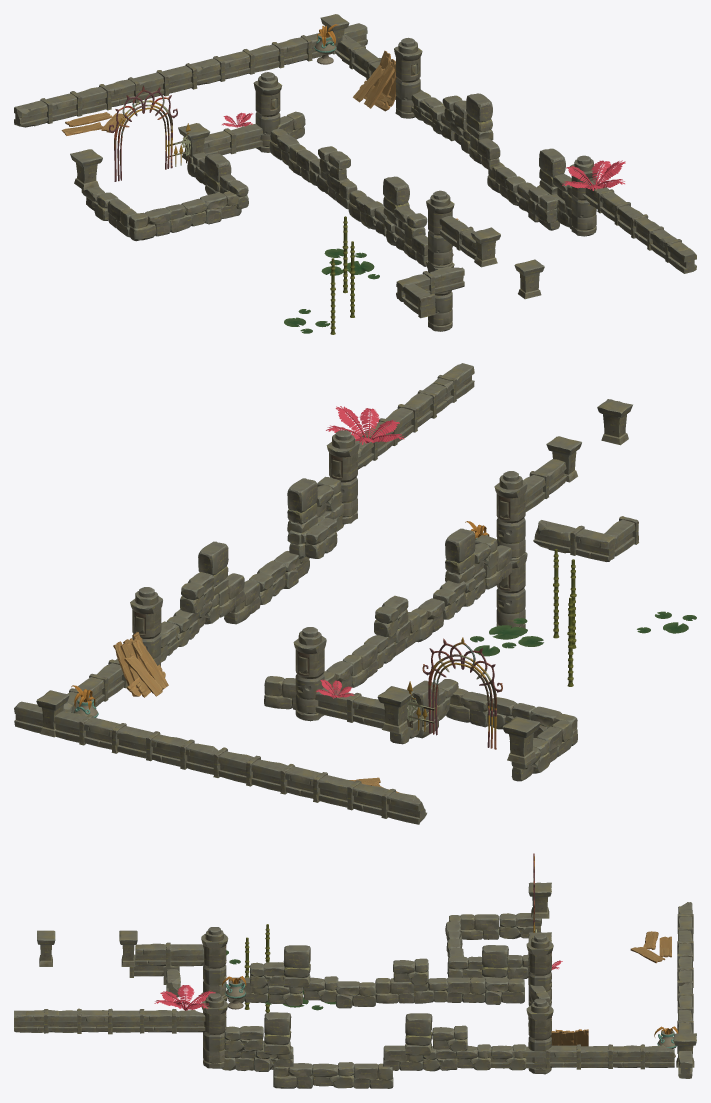
Rendered from Fortress_Part9_Blender.fbx.
3 renders of one model, top to bottom at view 1: azimuth 30°, elevation 25°; view 2: azimuth 150°, elevation 25°; view 3: azimuth 270°, elevation 25°, orthographic. The views are drawn at different scales.
Parts seen in each view (by area): view 1: bambooBranchBody_uv3_34; view 2: bambooBranchBody_uv3_34; view 3: bambooBranchBody_uv3_34.
Boxes of the visible parts, left/top/right/bottom form: bambooBranchBody_uv3_34: left=14, top=14, right=696, bottom=334; bambooBranchBody_uv3_34: left=14, top=363, right=696, bottom=824; bambooBranchBody_uv3_34: left=14, top=853, right=696, bottom=1088.
Size of the model in its own units: 2540 by 1043 by 4354.
